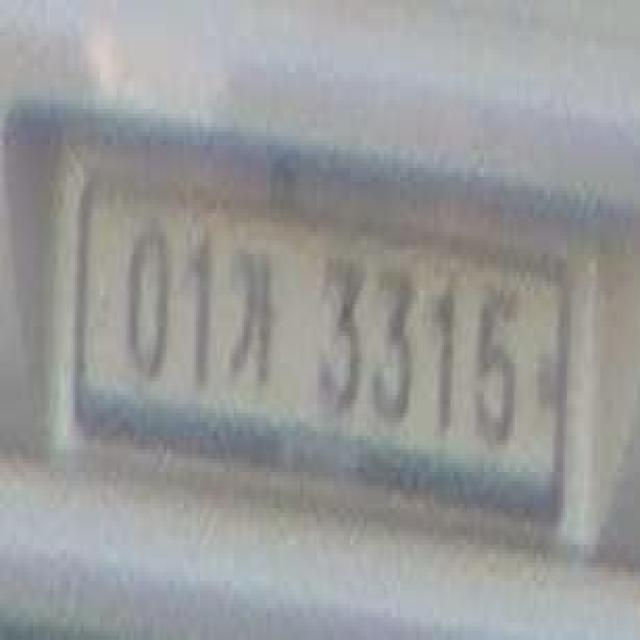illegal_plate: (74, 161, 573, 552)
